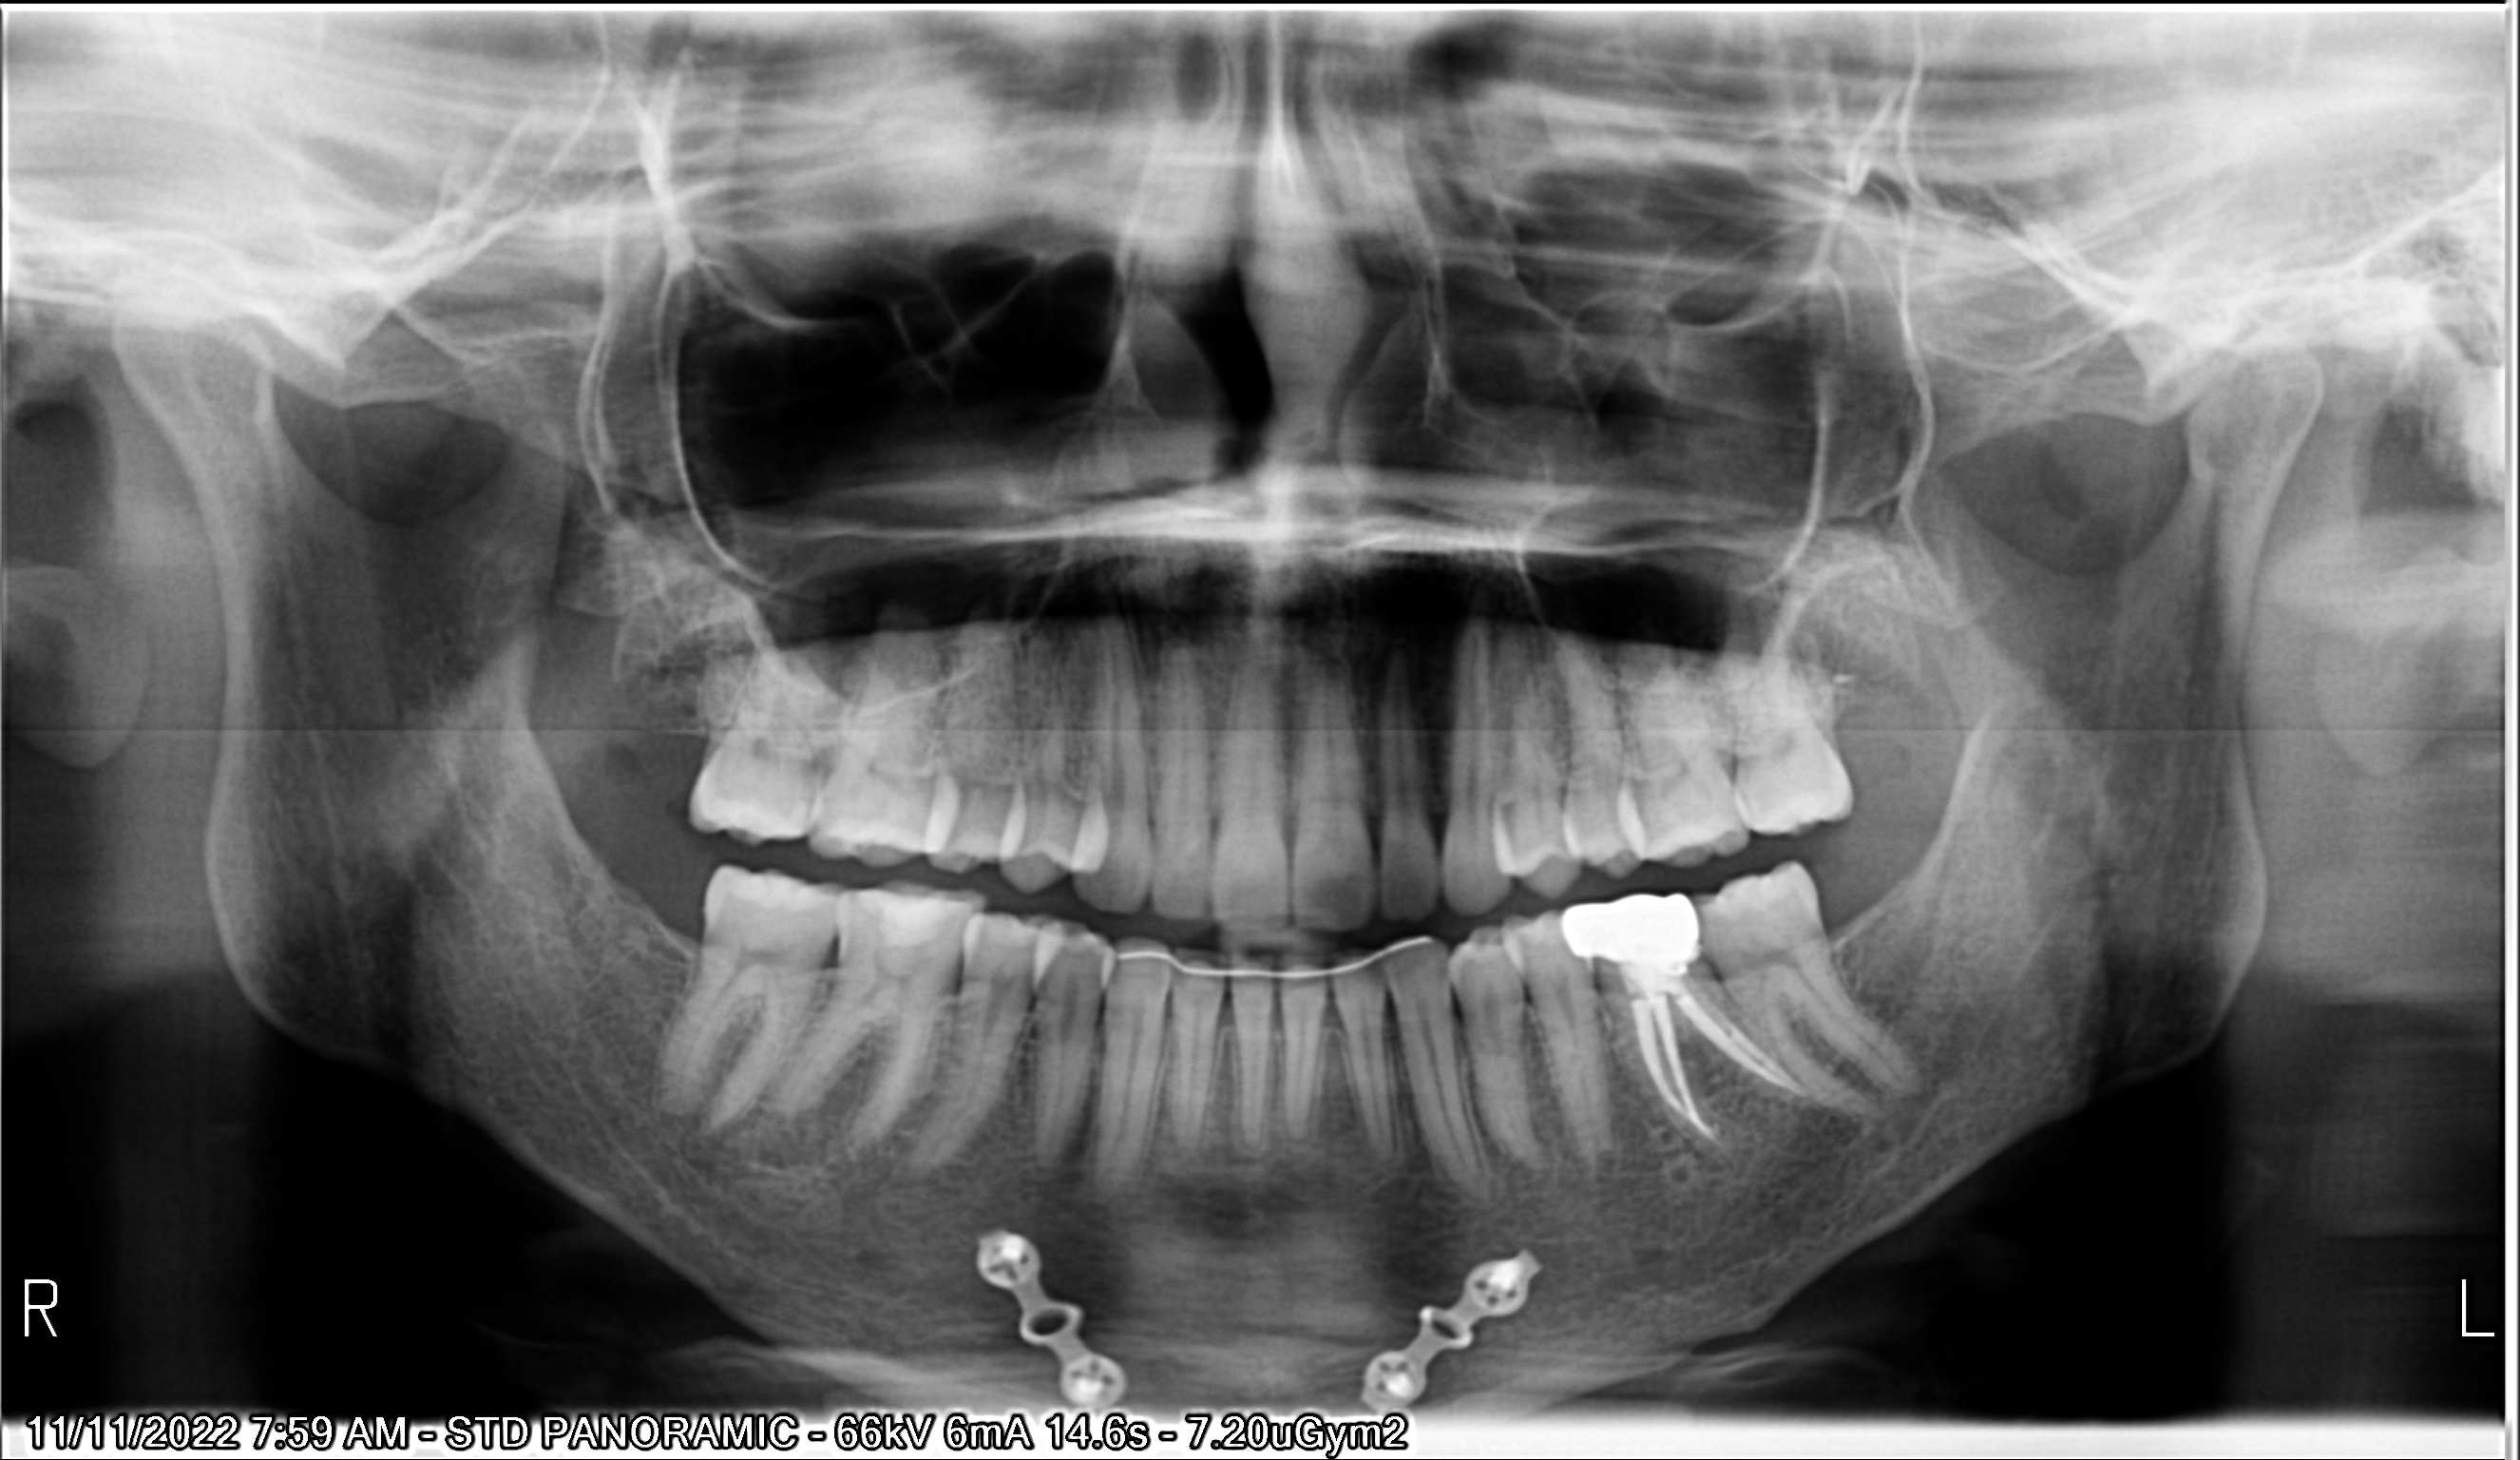END: (1580, 984, 1862, 1171)
ORD: (1105, 911, 1473, 1022)
PRR: (1554, 879, 1714, 985)
SRD: (929, 1210, 1200, 1406), (1316, 1238, 1586, 1411)
